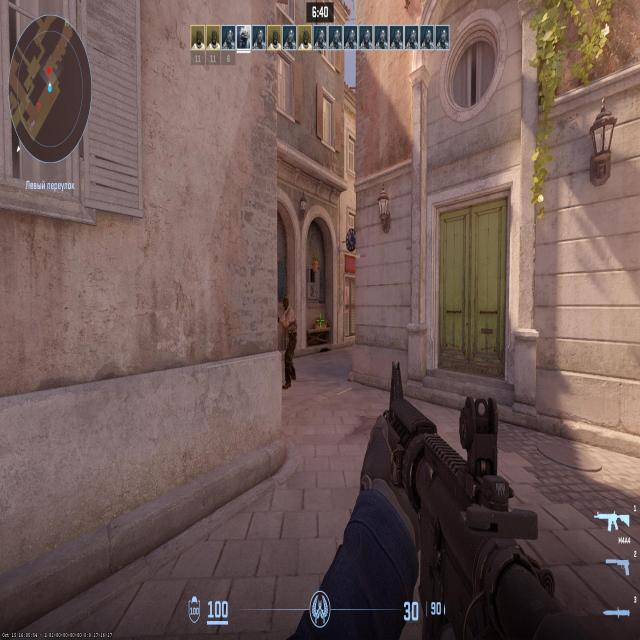T: (281, 298, 296, 382)
T_heat: (285, 301, 289, 311)
